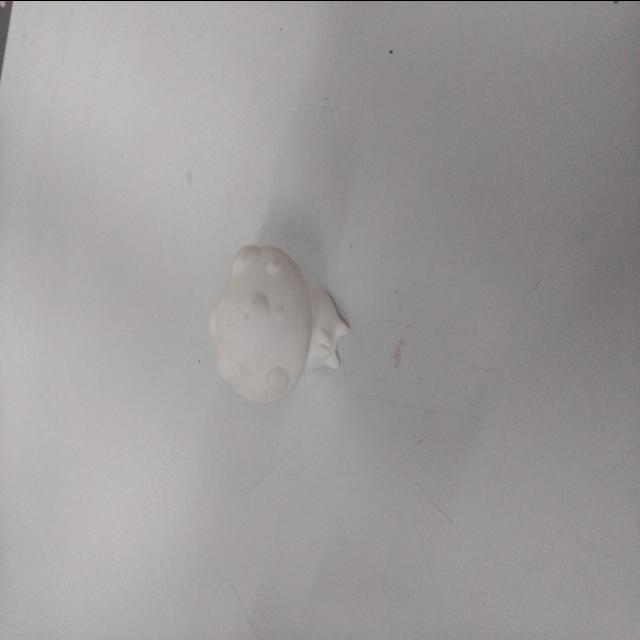Hongo: (207, 235, 356, 419)
